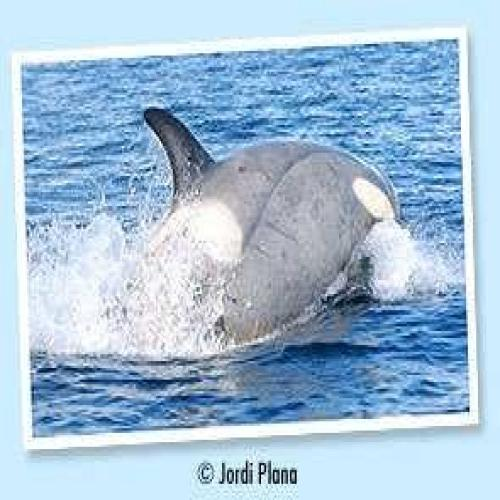killer_whale-endangered: (120, 90, 409, 351)
